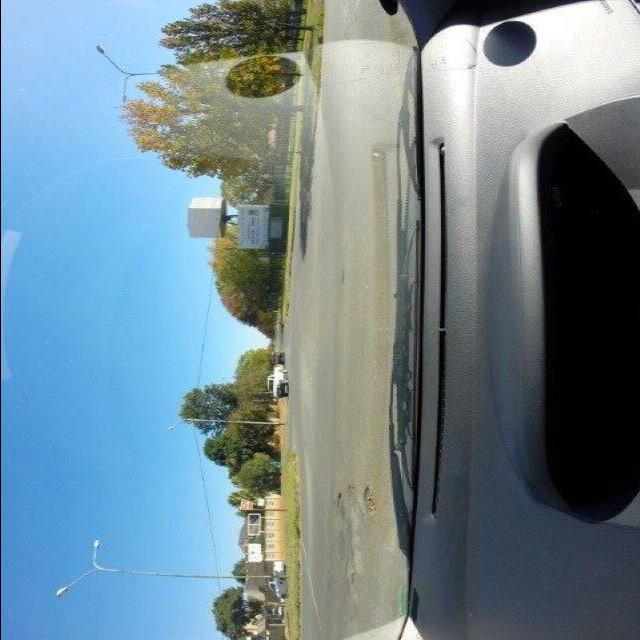jalan retak: (326, 500, 372, 634)
lubang: (336, 548, 362, 593), (359, 483, 377, 516), (332, 491, 347, 513), (343, 484, 355, 499), (338, 270, 346, 284)
